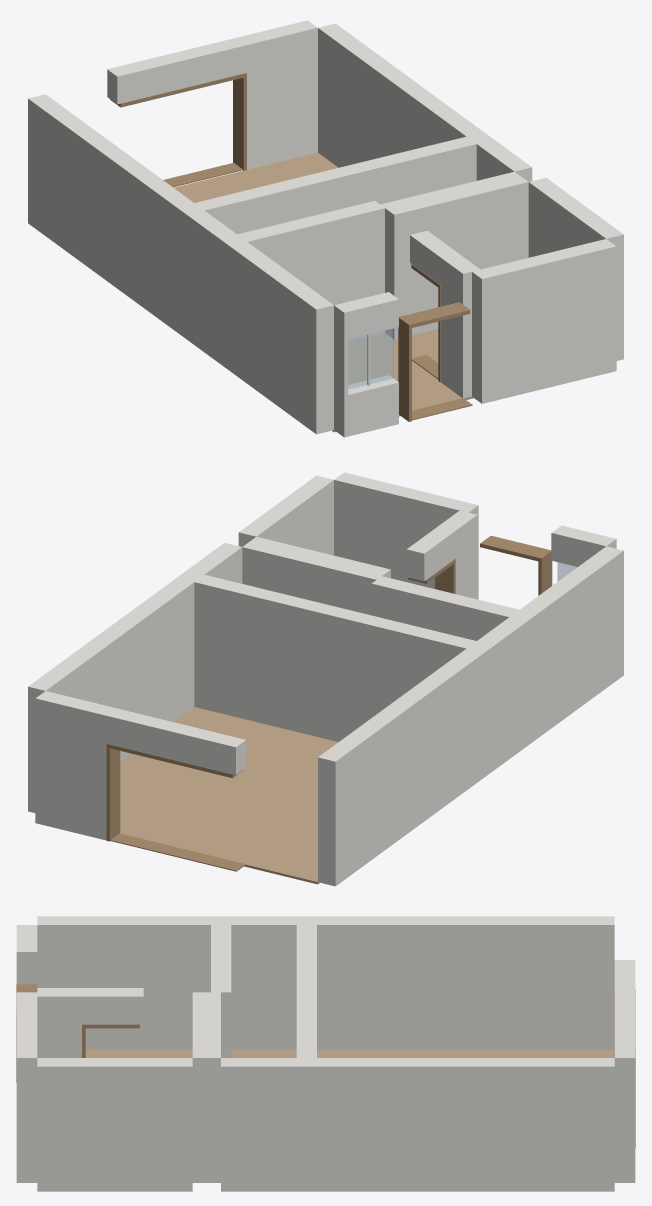
File: high_quality_architectural_7696.glb
3 views of the same model, one above another, from view 1: azimuth 30°, elevation 25°; view 2: azimuth 150°, elevation 25°; view 3: azimuth 270°, elevation 25° (orthographic).
Visible parts, largest first — view 1: Wall_0_solid, Wall_14_solid, Wall_9_solid, Wall_2_solid, Wall_3_solid, Wall_12_solid, Wall_1_solid, Wall_7_solid, Wall_4_solid, Wall_13_solid, Wall_1_lintel, Wall_11_solid (+17 smaller); view 2: Wall_3_solid, Wall_0_solid, Floor_0_living_room, Wall_2_solid, Wall_9_solid, Wall_1_solid, Wall_14_solid, Wall_4_solid, Wall_6_solid, Wall_7_solid, Wall_1_lintel, Wall_13_solid (+9 smaller); view 3: Wall_2_solid, Wall_0_solid, Wall_13_solid, Wall_9_solid, Wall_5_solid, Wall_4_solid, Wall_14_solid, Wall_6_solid, Wall_1_solid, Wall_11_solid, Wall_3_solid, Wall_12_solid (+7 smaller).
Part boxes in pixels (x1,y1,x2,y2): Wall_0_solid: (28, 94, 198, 335); Wall_14_solid: (472, 239, 616, 403); Wall_9_solid: (224, 238, 333, 434); Wall_2_solid: (318, 23, 488, 167); Wall_3_solid: (194, 136, 476, 234); Wall_12_solid: (385, 175, 528, 338); Wall_1_solid: (237, 20, 317, 169); Wall_7_solid: (237, 201, 384, 341); Wall_4_solid: (181, 207, 241, 366); Wall_13_solid: (528, 178, 623, 360); Wall_1_lintel: (107, 37, 246, 104); Wall_11_solid: (440, 253, 480, 398); Wall_3_solid: (194, 574, 476, 741); Wall_0_solid: (318, 645, 489, 886); Floor_0_living_room: (120, 707, 338, 884); Wall_2_solid: (28, 574, 198, 812); Wall_9_solid: (515, 546, 623, 741); Wall_1_solid: (35, 691, 116, 840); Wall_14_solid: (334, 472, 478, 599); Wall_4_solid: (472, 613, 532, 773); Wall_6_solid: (242, 539, 386, 615); Wall_7_solid: (371, 576, 519, 640); Wall_1_lintel: (106, 708, 246, 774); Wall_13_solid: (238, 475, 333, 555); Wall_2_solid: (307, 1058, 614, 1191); Wall_0_solid: (307, 916, 614, 1049); Wall_13_solid: (37, 1058, 192, 1191); Wall_9_solid: (37, 916, 220, 1049); Wall_5_solid: (221, 1058, 306, 1191); Wall_4_solid: (221, 916, 306, 1049); Wall_14_solid: (16, 992, 37, 1182); Wall_6_solid: (200, 992, 220, 1182); Wall_1_solid: (614, 1023, 635, 1182); Wall_11_solid: (37, 988, 81, 1057); Wall_3_solid: (296, 925, 316, 1057); Wall_12_solid: (192, 1001, 212, 1182).
Size of the model in its own units: 7.07 by 2.75 by 12.22.
